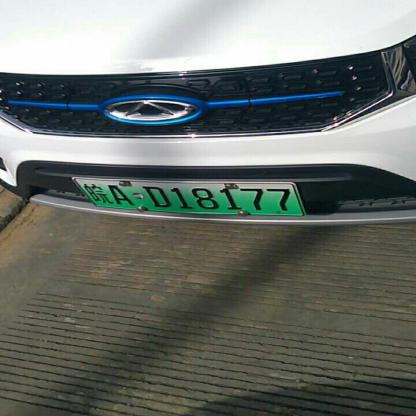lp: (73, 178, 305, 215)
